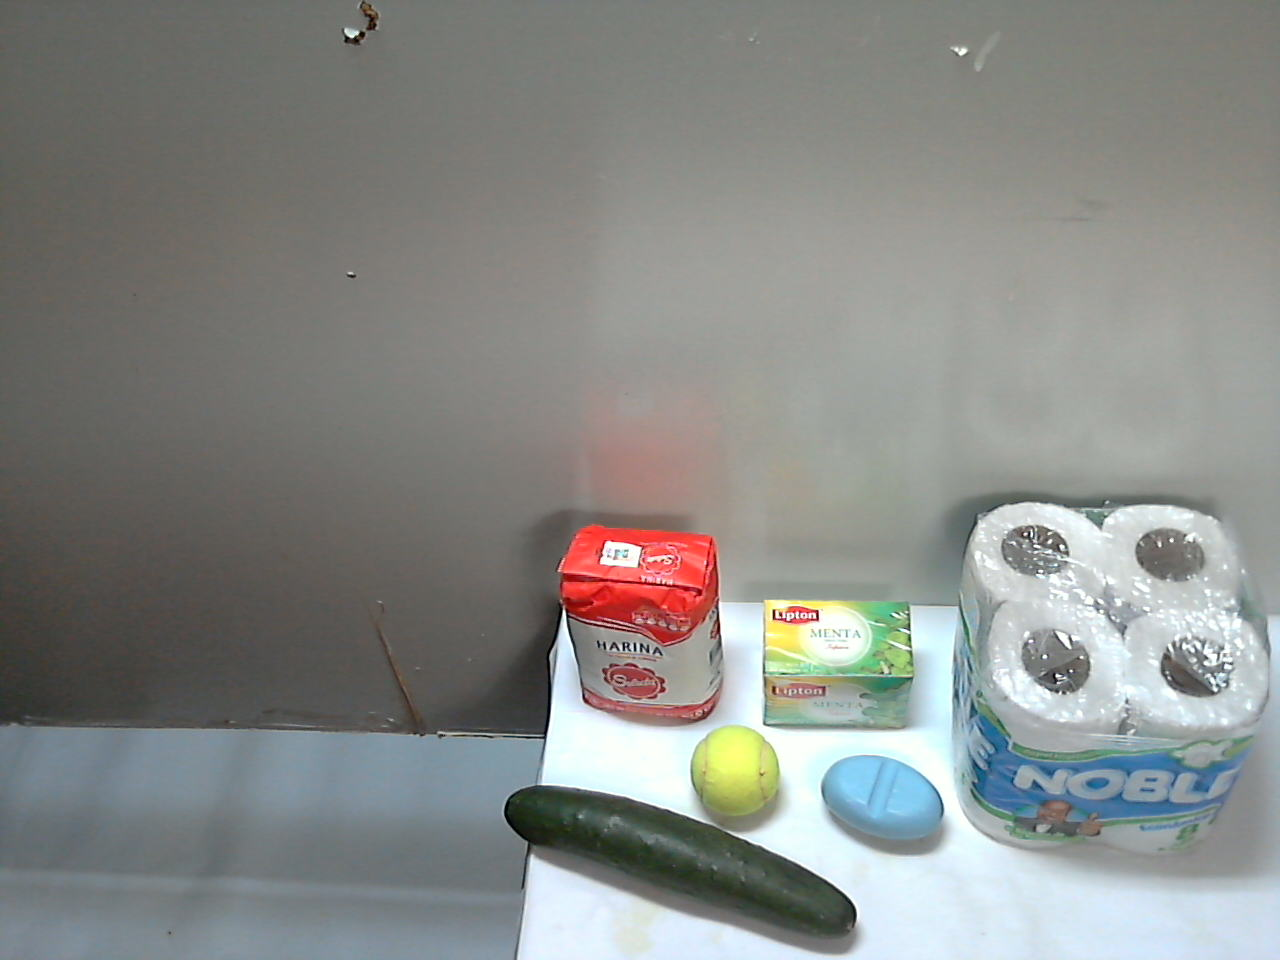colador: (794, 595, 1235, 951)
crema: (496, 604, 588, 734)
desodorante: (577, 649, 666, 778)
durazno: (695, 597, 823, 742)
jabon: (467, 748, 563, 879)
pescado: (577, 745, 805, 917)
